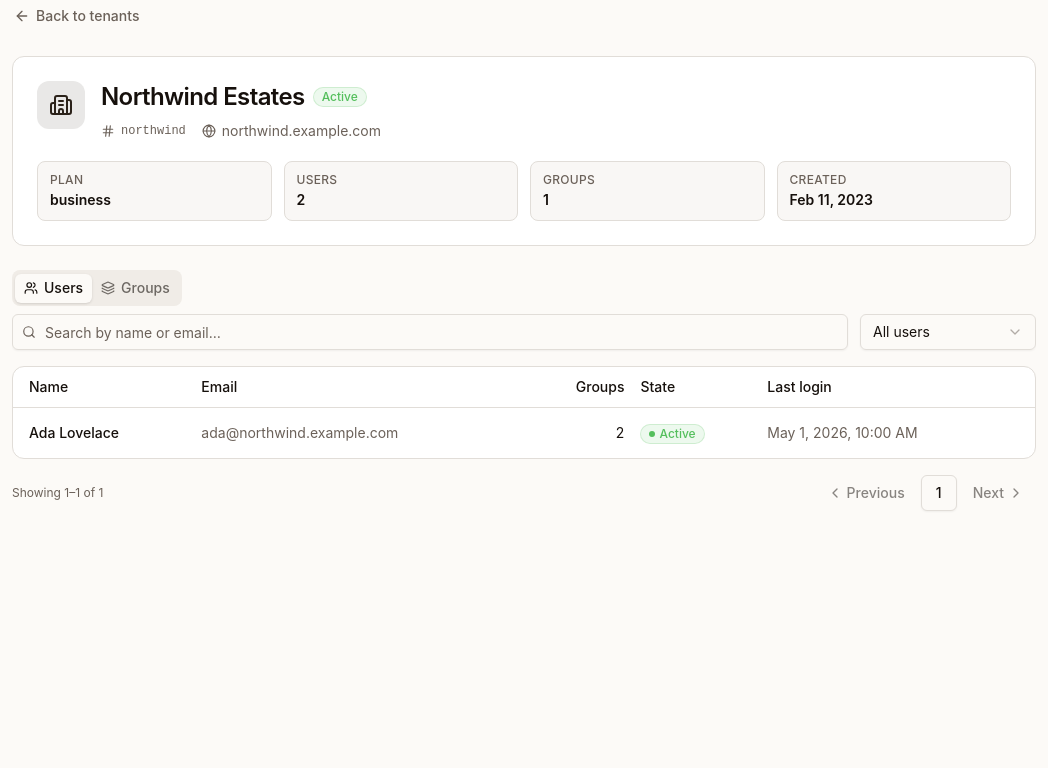
AdminTenantDetailPage › switches to the Groups tab, persists ?tab, and scopes the request to the tenant
This screenshot has width=1048, height=768.
Expected: the text "Ada Lovelace" is shown, 13,407 -> 193,458
Click the tab with test id "admin-tenant-tab-groups" at [135, 288], box 92,274 -> 179,302
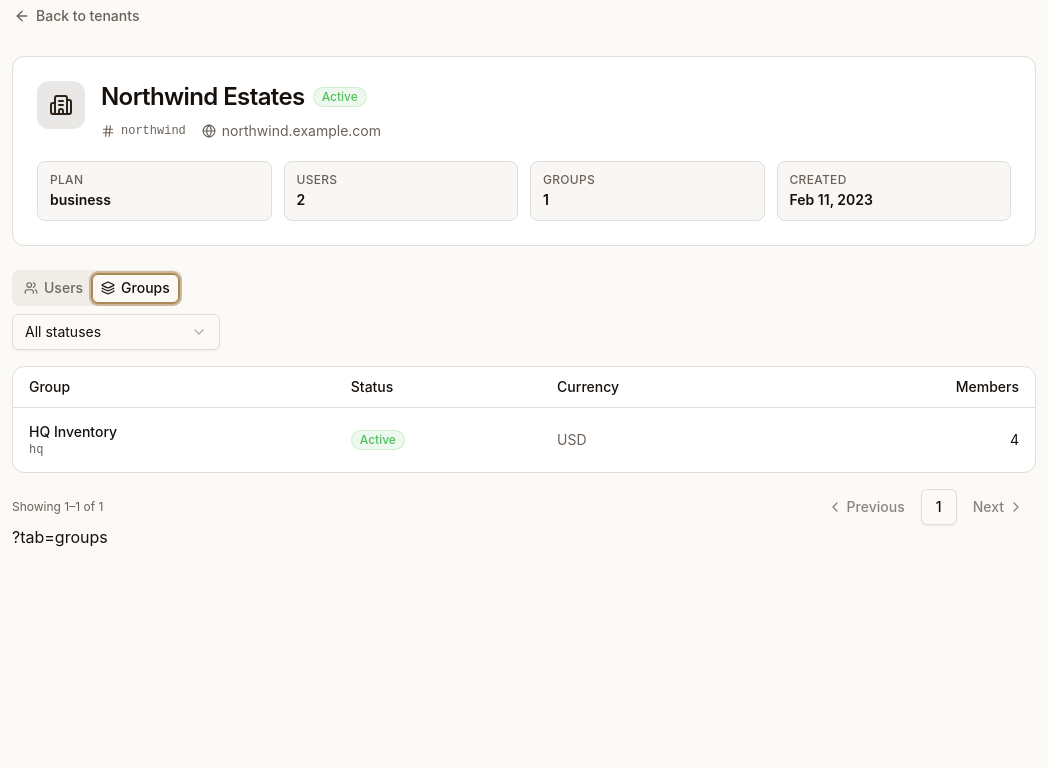
Now the text "HQ Inventory" is shown, box 29,422 -> 117,440
